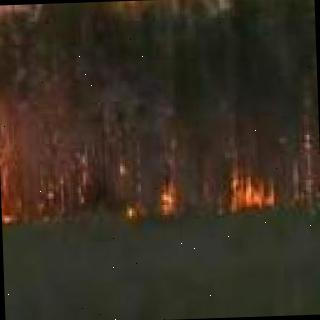fire: (111, 164, 178, 218), (234, 167, 282, 210), (0, 102, 8, 222)
